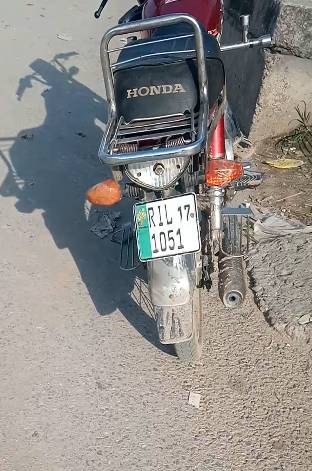number_plate: (128, 201, 213, 261)
